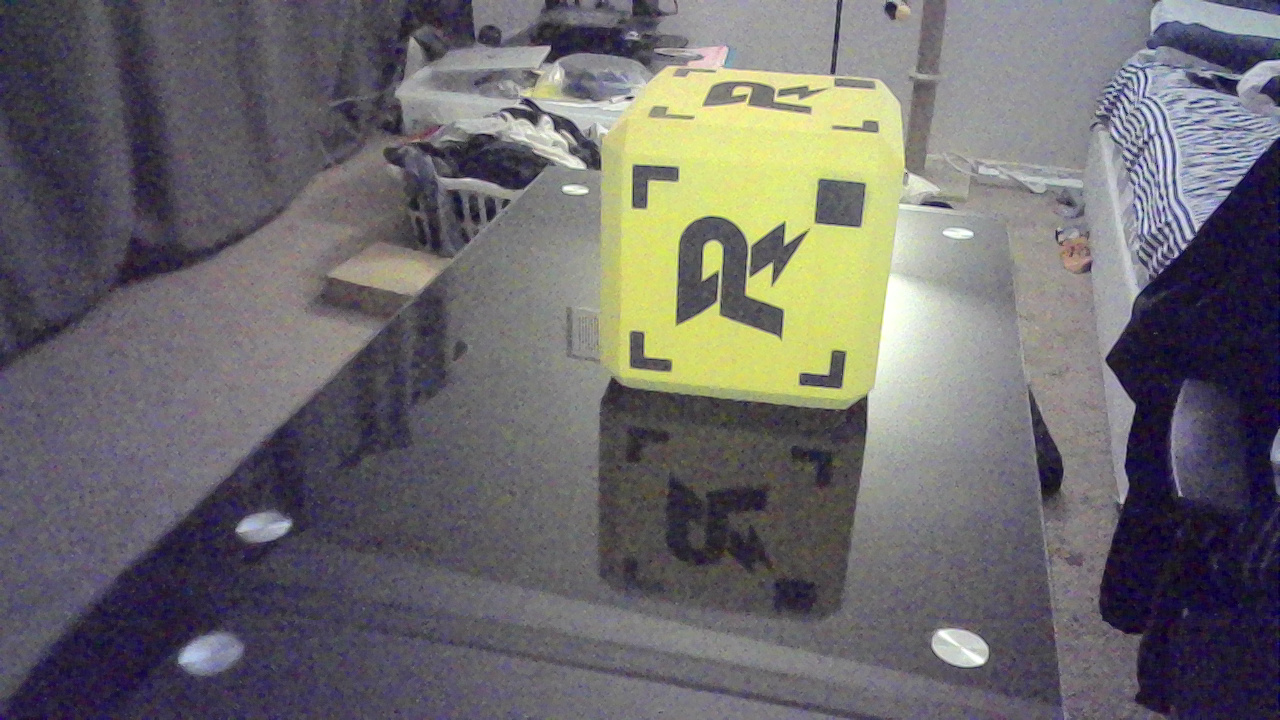R: (679, 217, 813, 342), (705, 81, 833, 125)
